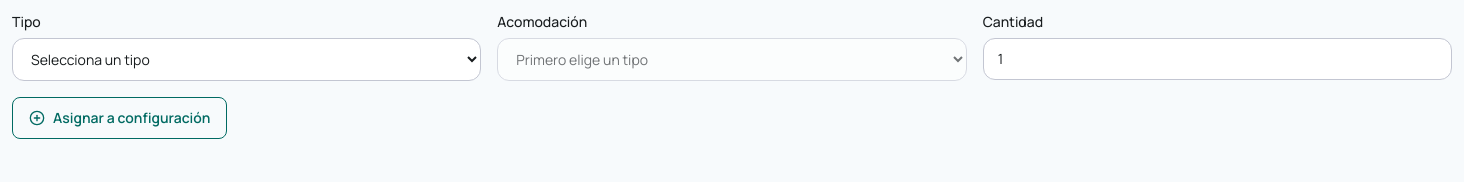
Test: RoomConfigurator › muestra un error si se intenta asignar sin elegir tipo
Click the button "Asignar a configuración". click: (120, 118)
box: [12,97,227,139]
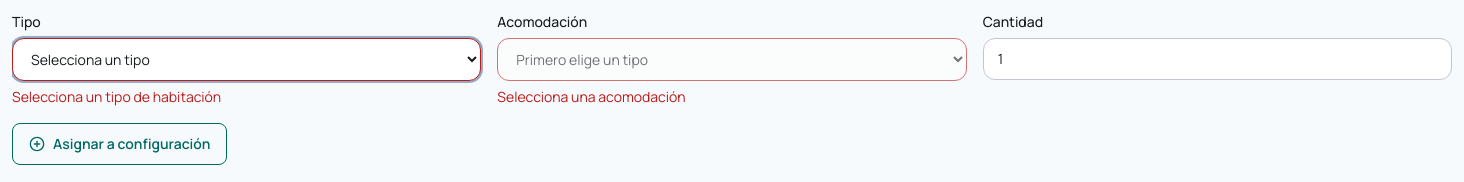
Expected: the text "Selecciona un tipo de habitación" is shown, [12,87,221,106]
